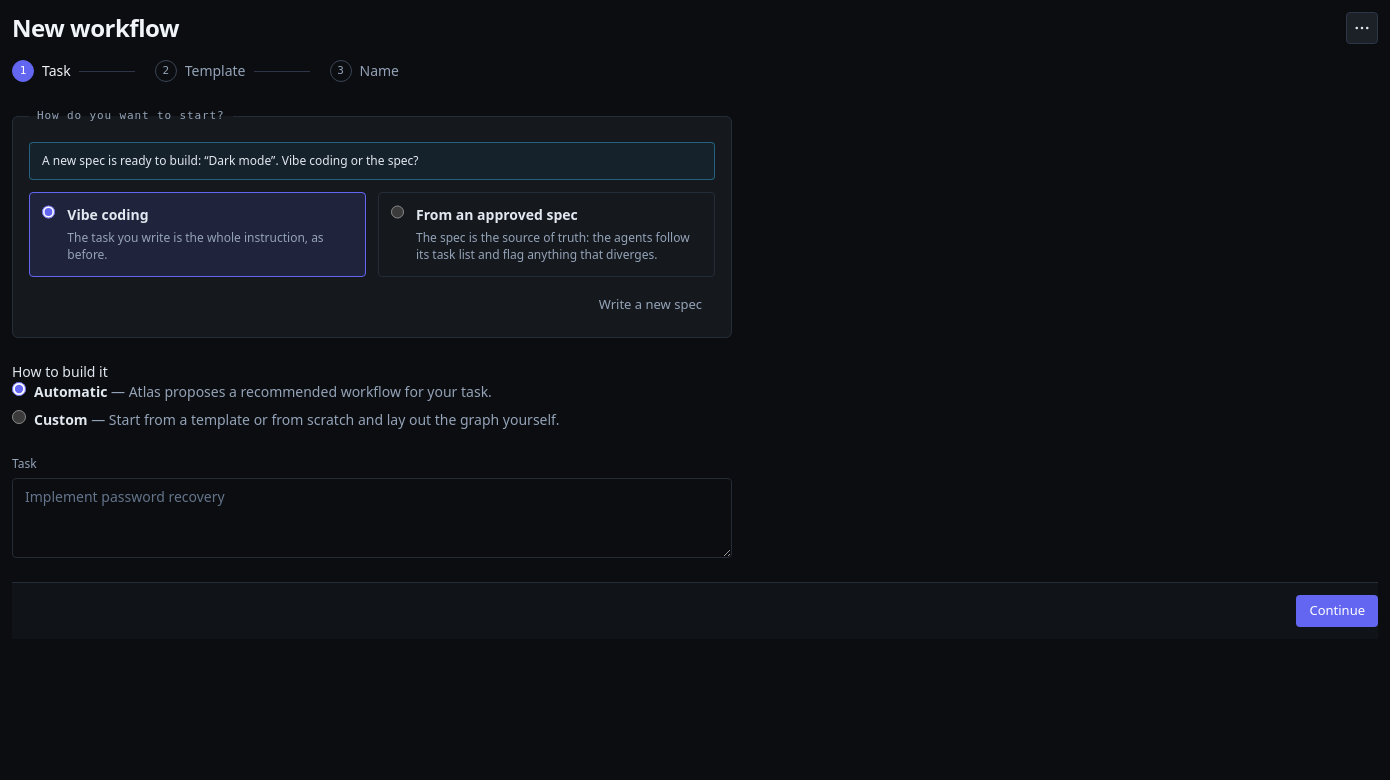
Test case: starting a workflow: vibe coding or a spec › asks the same question on the form that makes a new workflow
The width and height of the screenshot is (1390, 780).
Check: the text "How do you want to start?" is shown, box [29,106,233,126]
Check: the radio button labelled "Vibe coding" is checked, box [42,205,55,219]
Click the radio button labelled "From an approved spec". click: coordinates (398, 212)
box: [391,205,404,219]
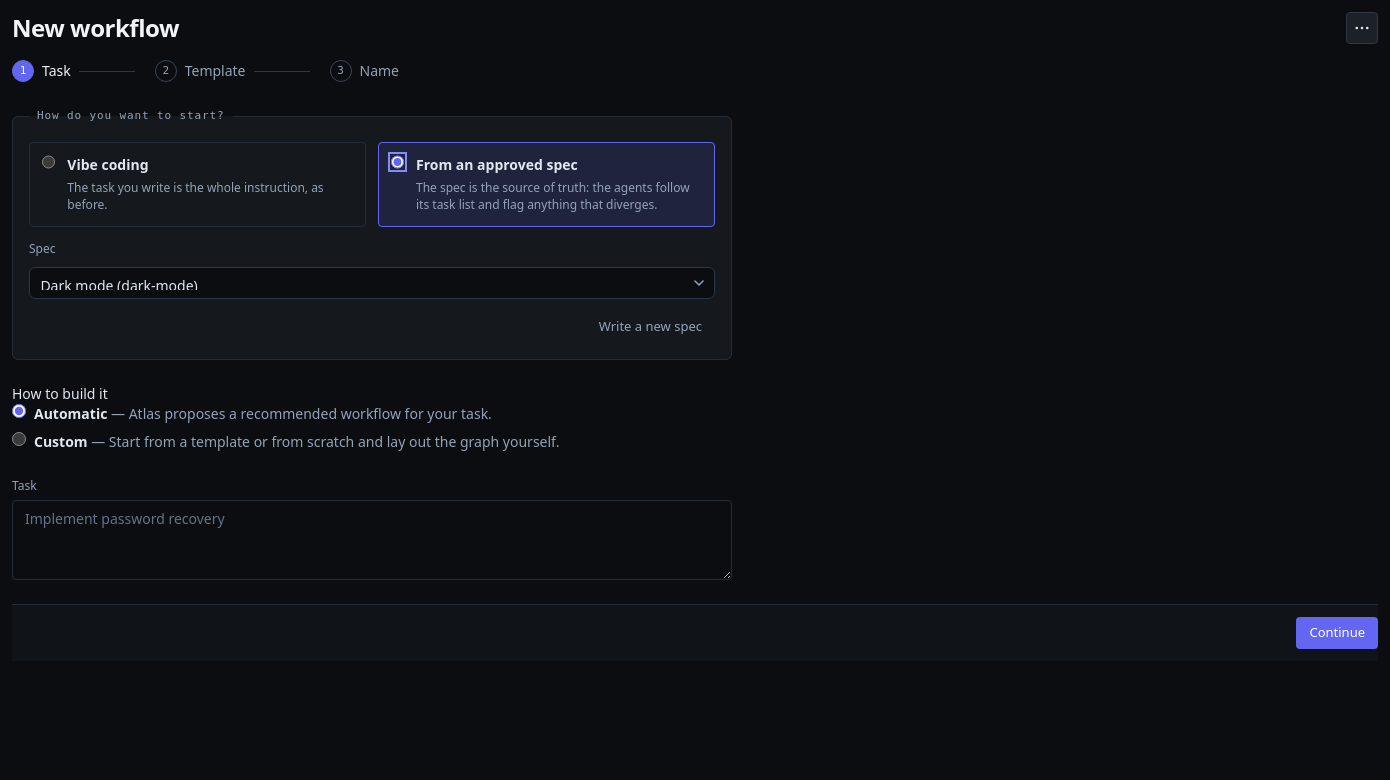
Check: the dropdown labelled "Spec" shows "Dark mode (dark-mode)", box [29,267,715,299]
